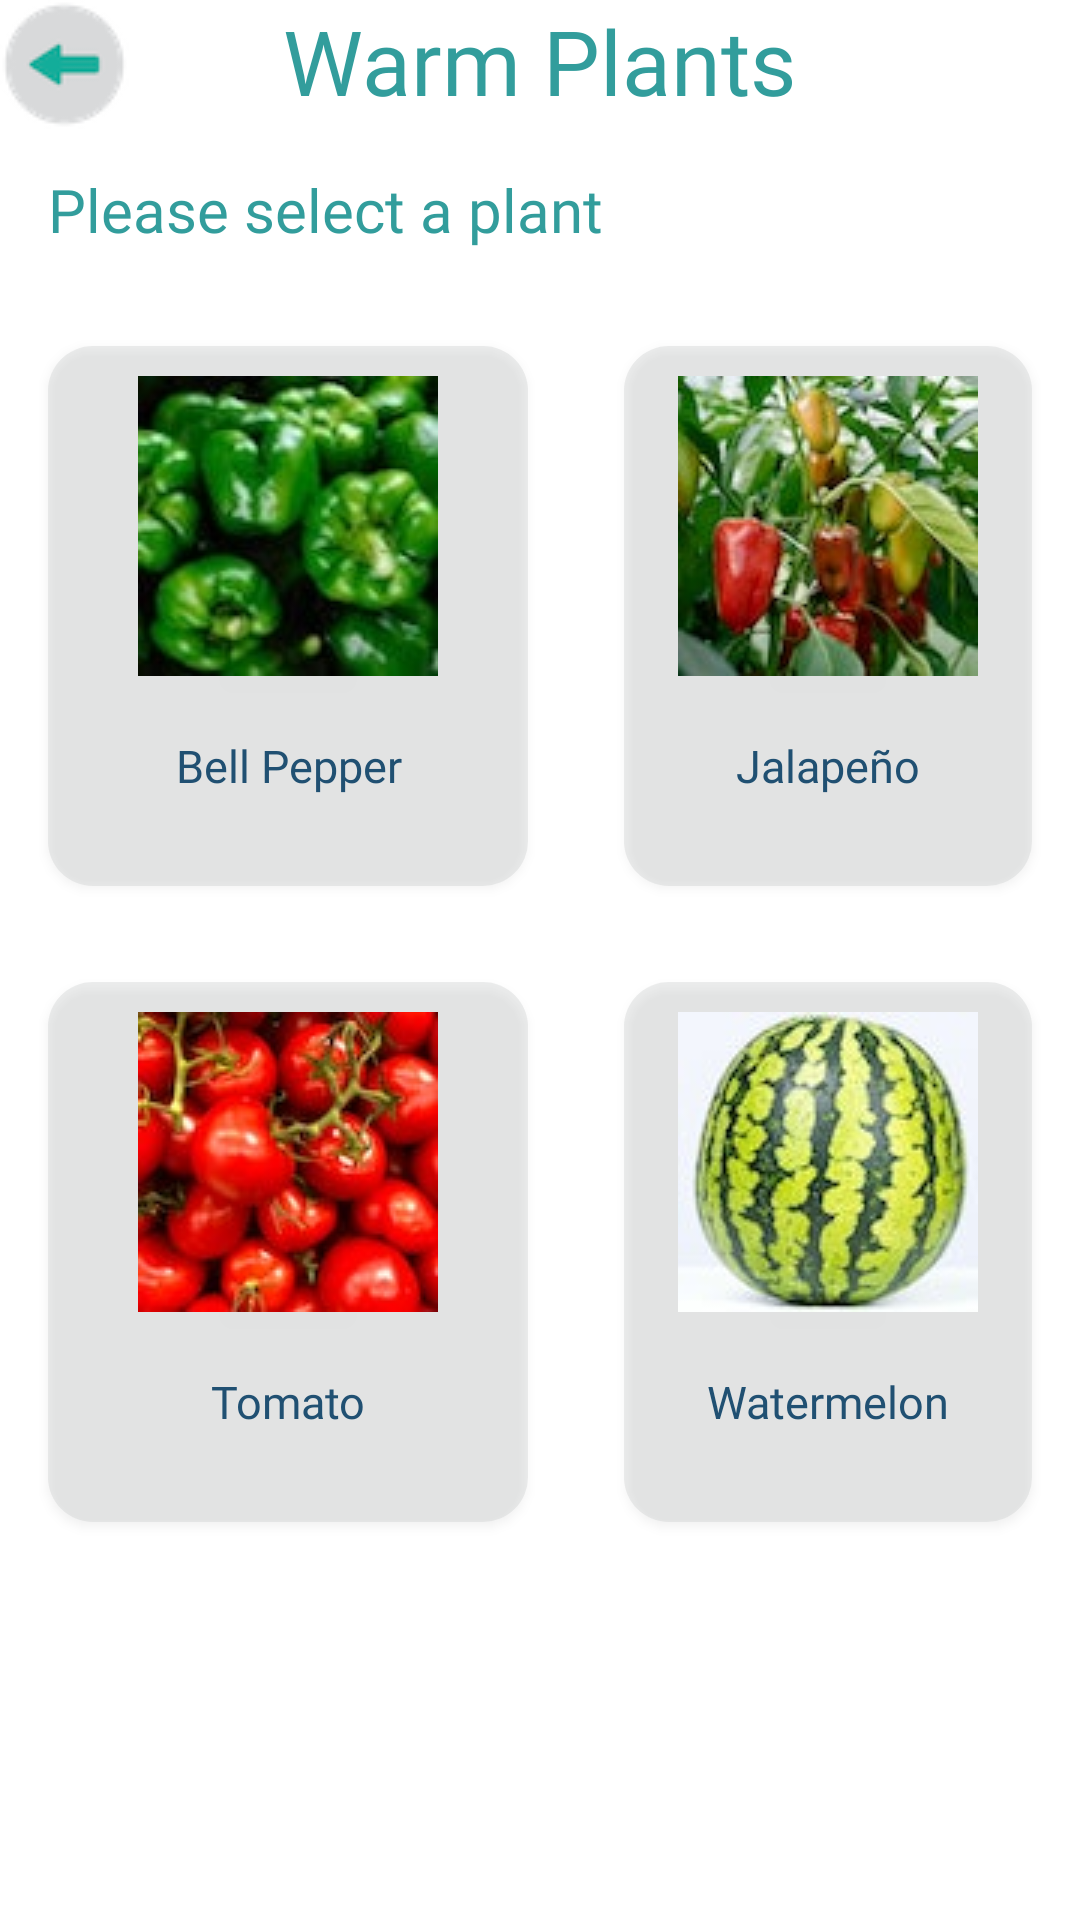

Icon bounding boxes for this 1080x1920 phone screenshot, format [x1,y1,x2,y2]:
back: [6,6,123,123]
